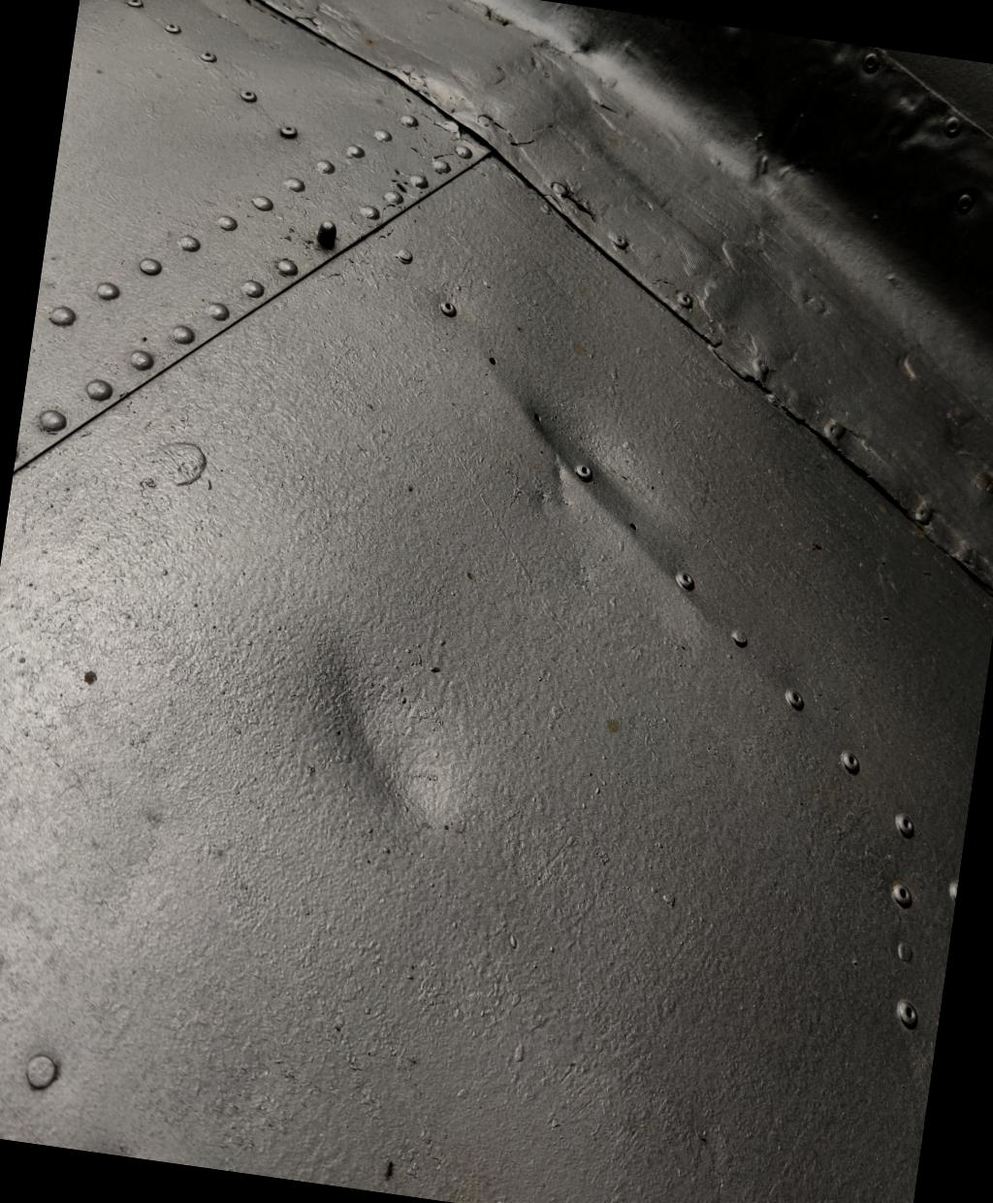dent: (208, 546, 562, 956)
